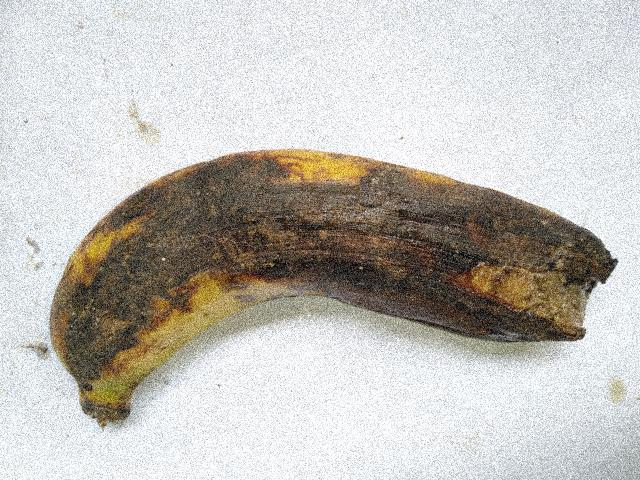rotten: (23, 126, 631, 426)
